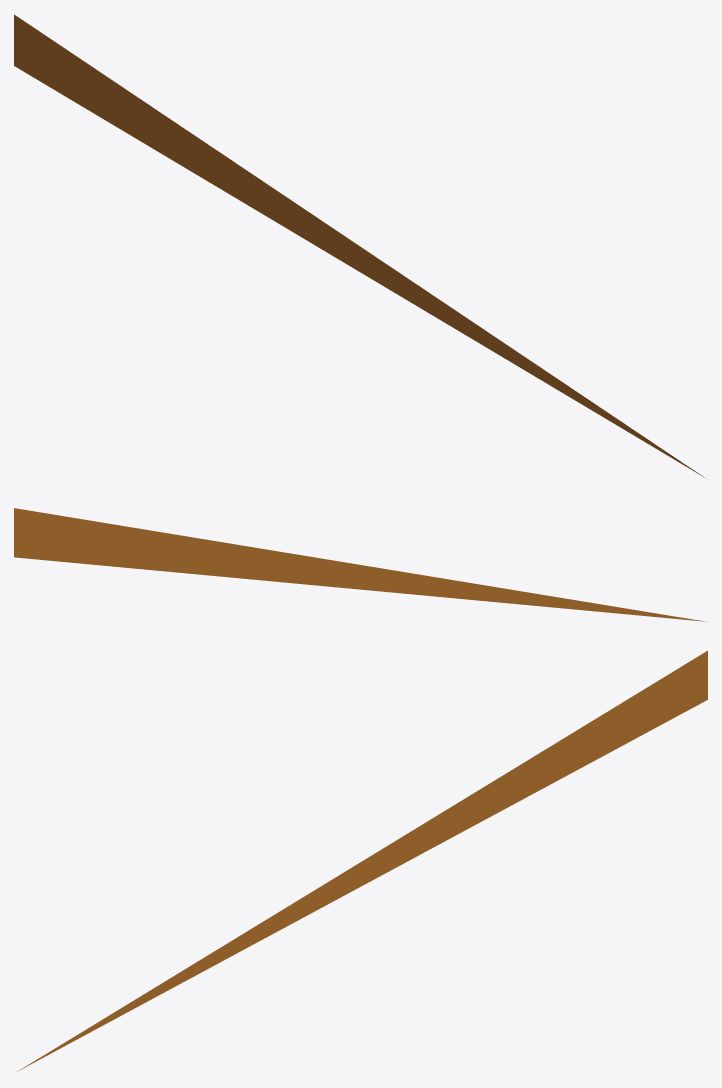
3 renders of one model, top to bottom at view 1: azimuth 90°, elevation 25°; view 2: azimuth 150°, elevation 25°; view 3: azimuth 330°, elevation 25°, orthographic. The views are drawn at different scales.
Parts seen in each view (by area): view 1: A-ROOF-PENDING-JOIN-4-LOW-LEFT-1-0; view 2: A-ROOF-PENDING-JOIN-4-LOW-LEFT-1-0; view 3: A-ROOF-PENDING-JOIN-4-LOW-LEFT-1-0.
Part boxes in pixels (x1,y1,x2,y2): A-ROOF-PENDING-JOIN-4-LOW-LEFT-1-0: (14, 14, 704, 477); A-ROOF-PENDING-JOIN-4-LOW-LEFT-1-0: (14, 508, 704, 621); A-ROOF-PENDING-JOIN-4-LOW-LEFT-1-0: (17, 650, 707, 1071).
Size of the model in its own units: 1.11 by 0.786 by 1.76.
